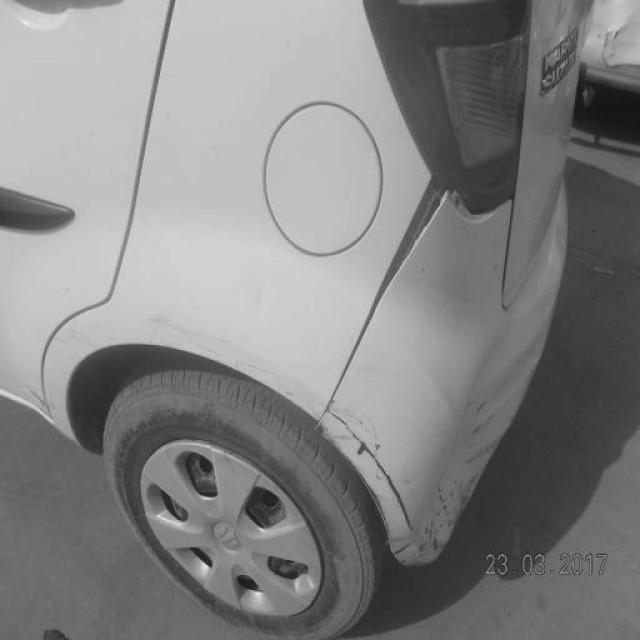car damage: (315, 175, 444, 433), (331, 411, 417, 544), (416, 480, 481, 561), (448, 184, 515, 223), (28, 381, 56, 420), (387, 539, 409, 559)
